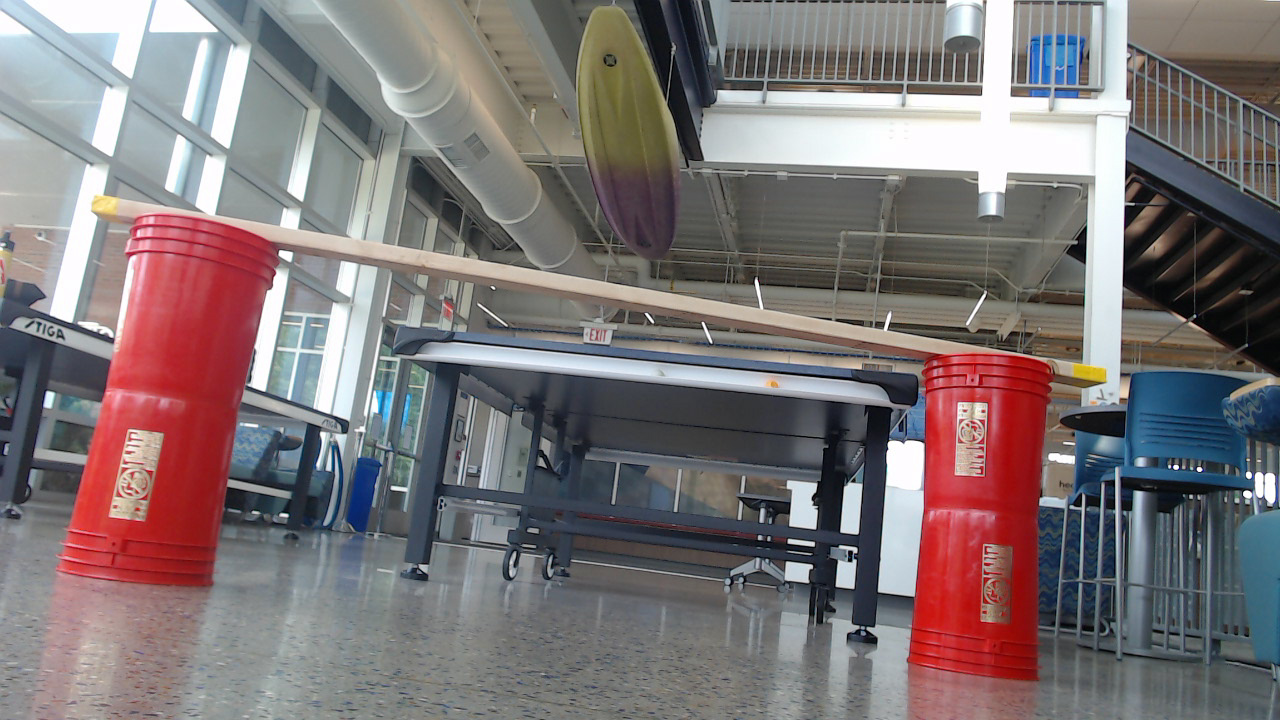blue_bucket: (56, 213, 1063, 695)
